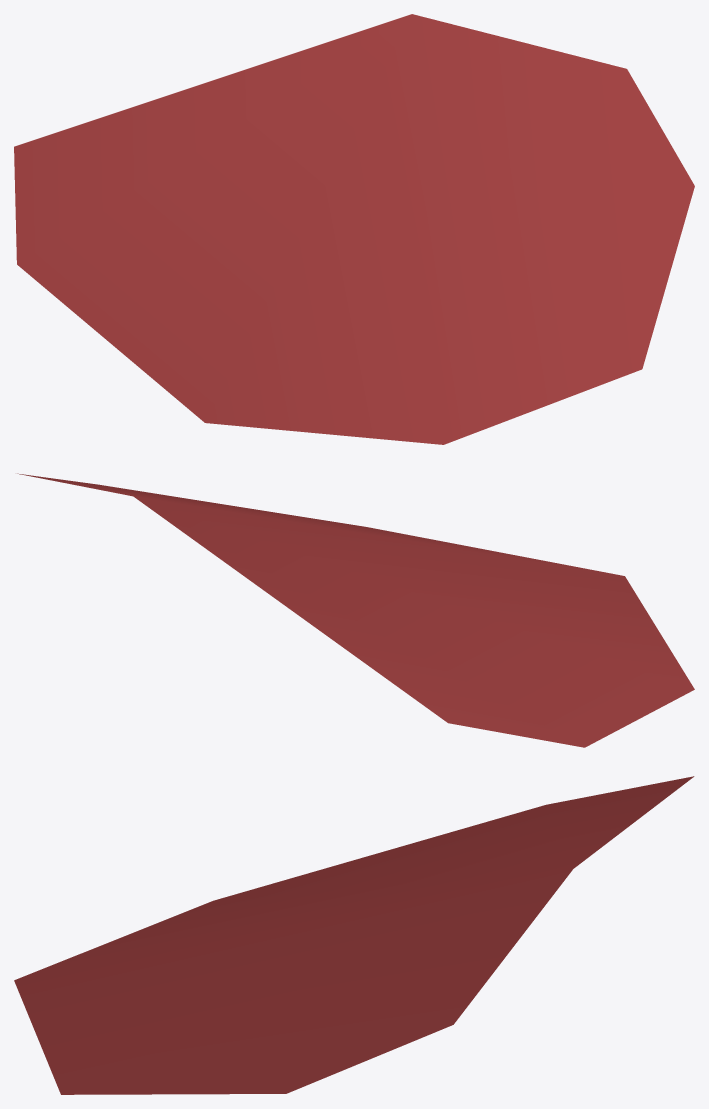
Rendered from extensor-digitorum-longus-e3r.glb.
3 views of the same model, one above another, from view 1: azimuth 30°, elevation 25°; view 2: azimuth 150°, elevation 25°; view 3: azimuth 270°, elevation 25° (orthographic). The views are drawn at different scales.
Visible parts, largest first — view 1: Extensor digitorum longus.e3r; view 2: Extensor digitorum longus.e3r; view 3: Extensor digitorum longus.e3r.
Boxes of the visible parts, x1=… form: Extensor digitorum longus.e3r: x1=14, y1=14, x2=694, y2=444; Extensor digitorum longus.e3r: x1=17, y1=473, x2=694, y2=747; Extensor digitorum longus.e3r: x1=14, y1=776, x2=694, y2=1094.
Bounding box in the file's own units: 0.003 × 0.00103 × 0.00271.
